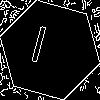I: (25, 25, 50, 73)
